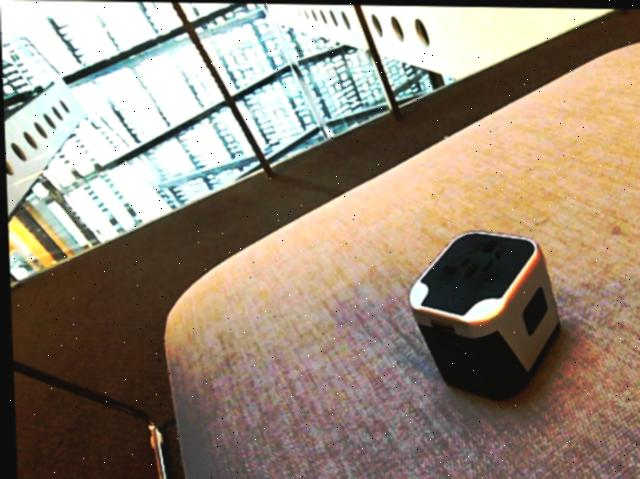adapter: (403, 226, 559, 399)
